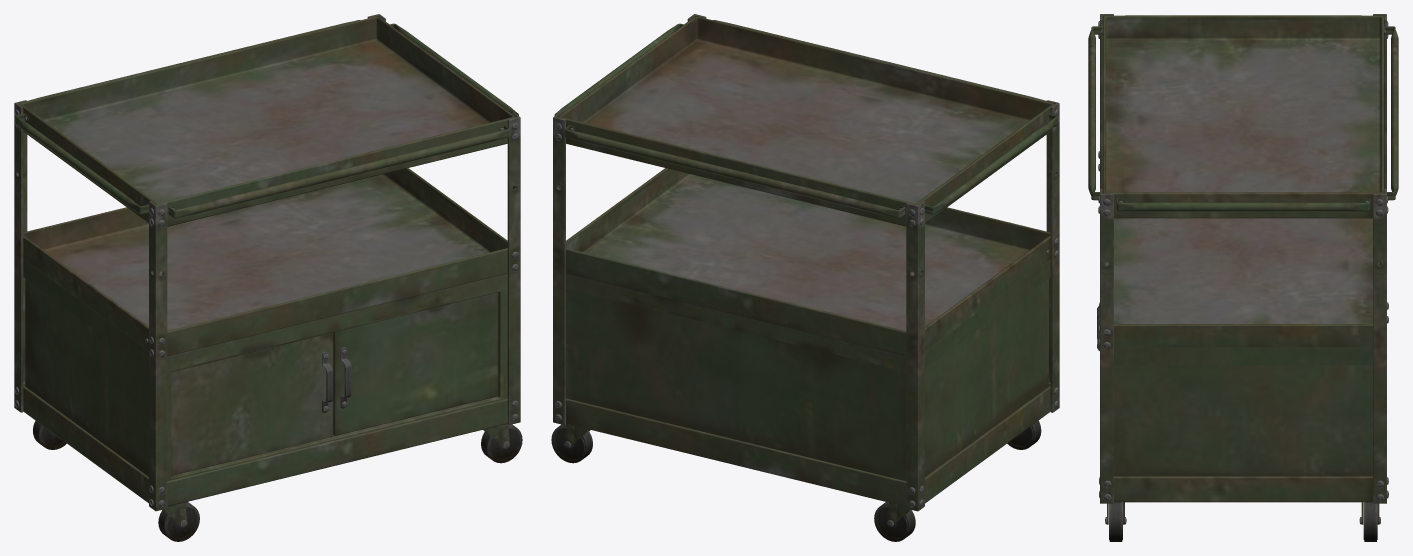
Rendered from industrial_storage_cart.glb.
3 renders of one model, left to right at view 1: azimuth 30°, elevation 25°; view 2: azimuth 150°, elevation 25°; view 3: azimuth 270°, elevation 25°, orthographic.
Visible parts, largest first — view 1: industrial_storage_cart; view 2: industrial_storage_cart; view 3: industrial_storage_cart.
Part boxes in pixels (<box>): industrial_storage_cart: <box>14,14,522,541</box>; industrial_storage_cart: <box>551,14,1059,541</box>; industrial_storage_cart: <box>1088,14,1398,541</box>.
Size of the model in its own units: 1.6 by 1.38 by 1.1.
1 material, 1 textured.
